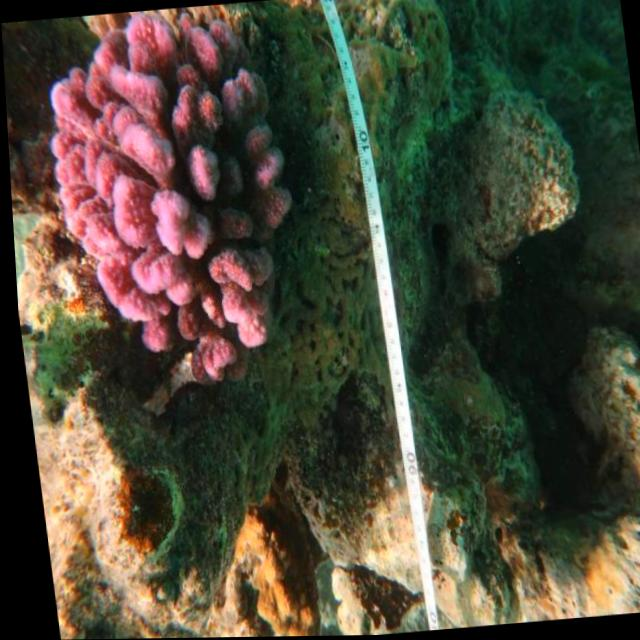Healthy Coral: (31, 0, 328, 393)
